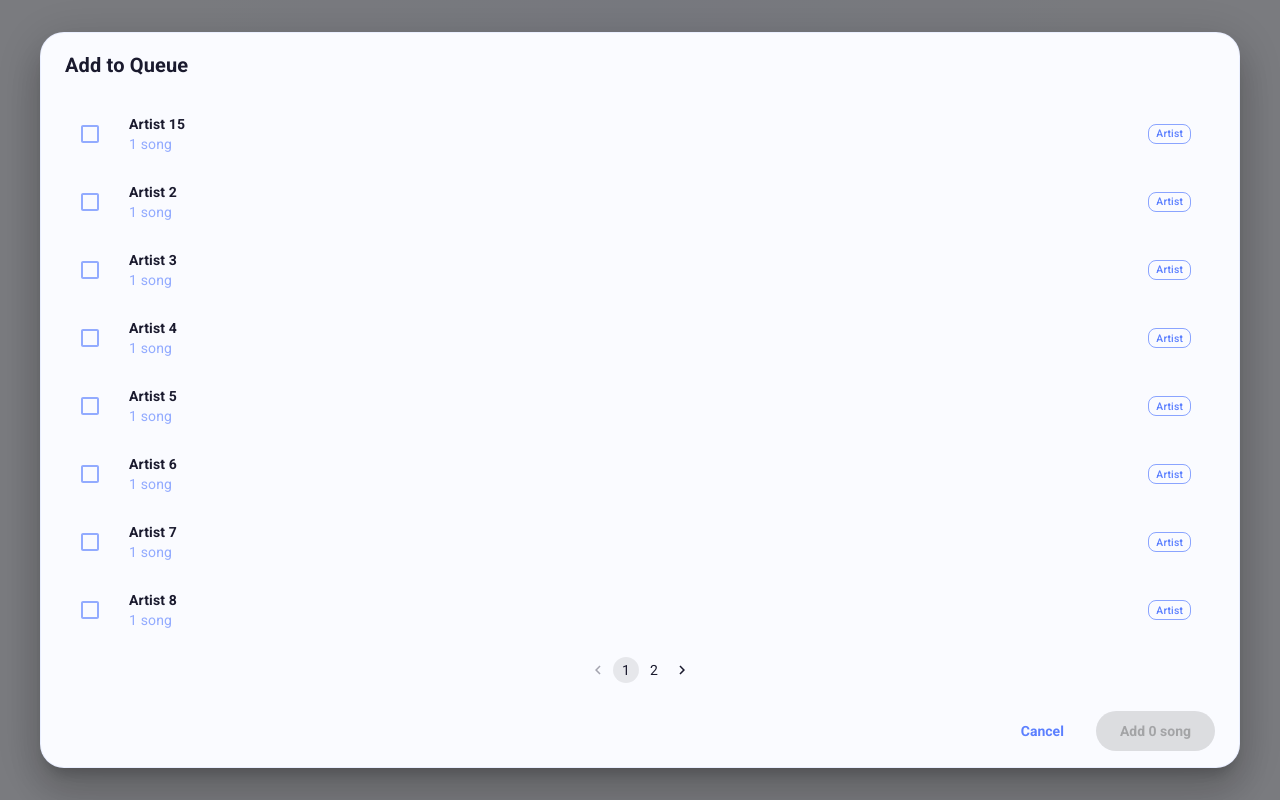
Test: QueueAddDialog › paginates artists beyond the first page
(page scrolled)
Expected: the text "Artist 9" is not shown
Click the button "2". click: (654, 670)
box: [641, 657, 667, 683]
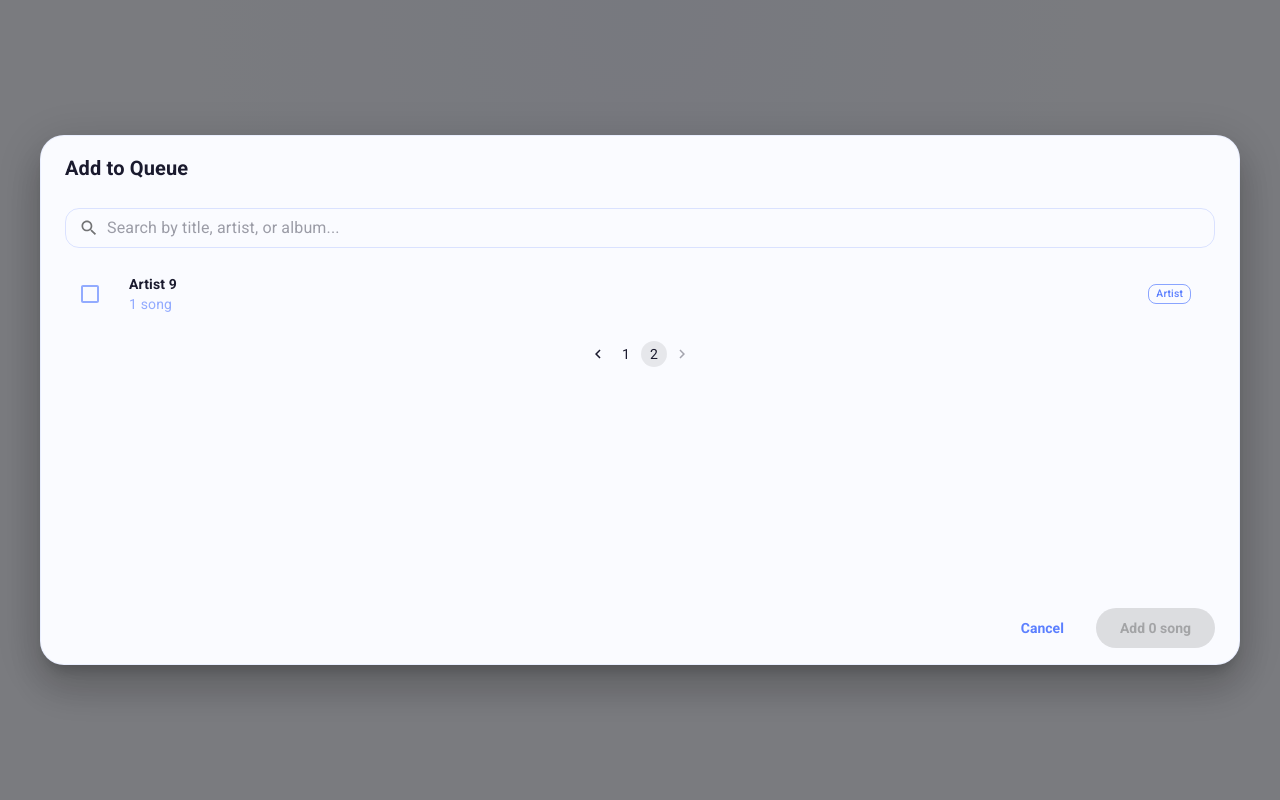
Result: the text "Artist 9" is shown at [129, 276, 177, 292]
